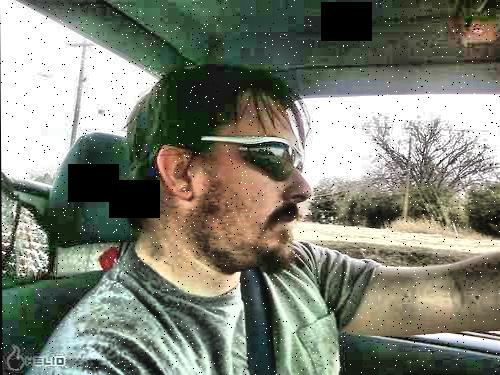seatbelt: (221, 254, 289, 363)
